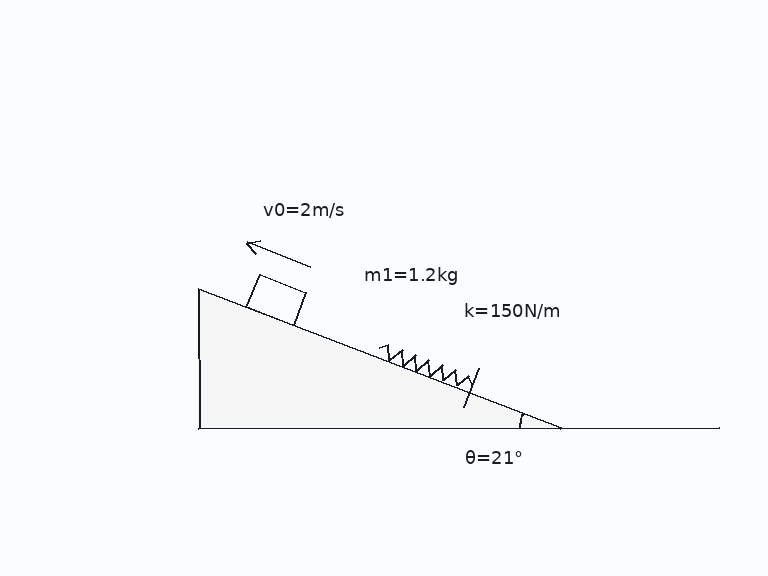block: (245, 272, 307, 327)
ramp: (196, 287, 562, 430)
spring: (376, 343, 475, 388)
